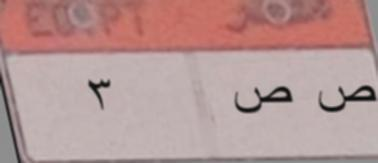3: (86, 71, 117, 111)
saad: (226, 78, 296, 117), (315, 80, 376, 119)
